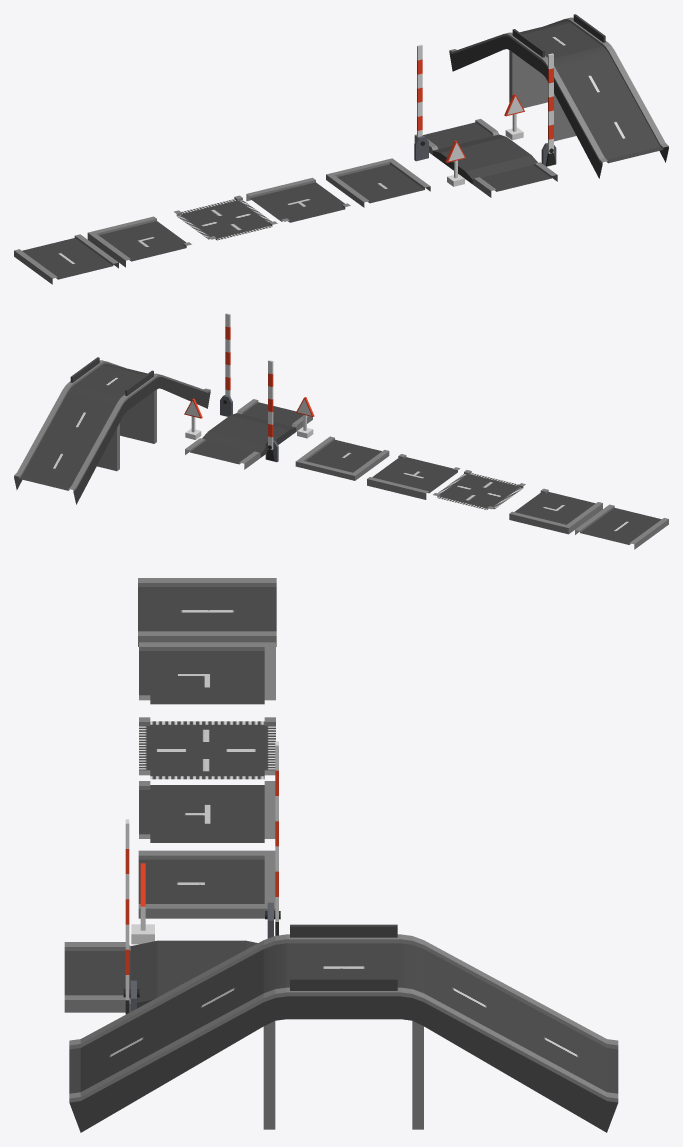
File: Roads.fbx
3 renders of one model, top to bottom at view 1: azimuth 30°, elevation 25°; view 2: azimuth 150°, elevation 25°; view 3: azimuth 270°, elevation 25°, orthographic. The views are drawn at different scales.
Parts seen in each view (by area): view 1: RoadBridge, Road Stem Simplified.017, Road Stem Simplified.016, Road Stem Simplified.013, Road Stem Simplified.012, Road Stem Simplified.015, Road Stem Simplified.014, Crossing.016, Crossing.014, Crossing.017, Crossing.012; view 2: RoadBridge, Road Stem Simplified.017, Road Stem Simplified.013, Road Stem Simplified.016, Road Stem Simplified.015, Road Stem Simplified.012, Road Stem Simplified.014, Crossing.014, Crossing.016, Crossing.017, Crossing.012; view 3: RoadBridge, Road Stem Simplified.016, Road Stem Simplified.012, Road Stem Simplified.017, Road Stem Simplified.013, Road Stem Simplified.014, Road Stem Simplified.015, Crossing.016, Crossing.012, Crossing.014.
Part boxes in pixels (x1,y1,x2,y2): RoadBridge: (449, 14, 668, 178); Road Stem Simplified.017: (414, 119, 557, 197); Road Stem Simplified.016: (326, 158, 430, 207); Road Stem Simplified.013: (87, 216, 191, 267); Road Stem Simplified.012: (14, 234, 118, 284); Road Stem Simplified.015: (246, 177, 350, 222); Road Stem Simplified.014: (174, 195, 277, 240); Crossing.016: (546, 53, 555, 166); Crossing.014: (417, 44, 425, 145); Crossing.017: (504, 94, 524, 140); Crossing.012: (445, 140, 465, 186); RoadBridge: (14, 357, 210, 504); Road Stem Simplified.017: (185, 399, 312, 469); Road Stem Simplified.013: (509, 488, 602, 534); Road Stem Simplified.016: (295, 436, 389, 480); Road Stem Simplified.015: (367, 454, 460, 499); Road Stem Simplified.012: (575, 504, 668, 549); Road Stem Simplified.014: (433, 470, 525, 509); Crossing.014: (266, 360, 274, 461); Crossing.016: (223, 313, 230, 403); Crossing.017: (184, 398, 202, 439); Crossing.012: (296, 397, 314, 438); RoadBridge: (69, 924, 618, 1132); Road Stem Simplified.016: (138, 850, 275, 918); Road Stem Simplified.012: (138, 578, 276, 646); Road Stem Simplified.017: (64, 940, 257, 1012); Road Stem Simplified.013: (139, 642, 275, 704); Road Stem Simplified.014: (139, 717, 275, 779); Road Stem Simplified.015: (139, 781, 275, 842); Crossing.016: (123, 819, 139, 1014); Crossing.012: (131, 863, 154, 944); Crossing.014: (265, 741, 280, 935).
Bounding box in the file's own units: 9 × 1.8 × 4.03.
